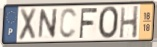C: (58, 7, 78, 40)
F: (78, 7, 99, 40)
H: (118, 5, 140, 40)
N: (36, 8, 59, 41)
O: (98, 5, 120, 40)
X: (17, 7, 38, 42)
